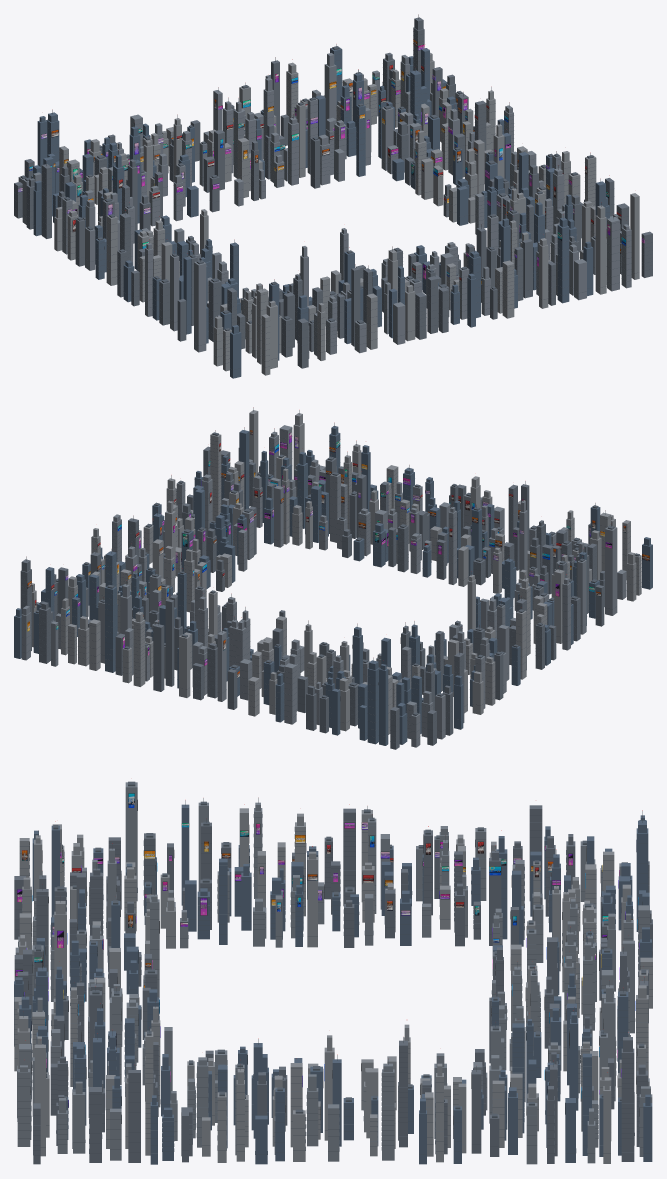
The model's file is HEX_City_06_SKYLINE_BACKGROUND.fbx.
3 views of the same model, one above another, from view 1: azimuth 30°, elevation 25°; view 2: azimuth 150°, elevation 25°; view 3: azimuth 270°, elevation 25° (orthographic). The views are drawn at different scales.
Parts seen in each view (by area): view 1: Skyline_Sector_06, Skyline_Sector_11, Skyline_Sector_03, Skyline_Sector_10, Skyline_Sector_14, Skyline_Sector_15, Skyline_Sector_07, Skyline_Sector_02, Skyline_Sector_04, Skyline_Sector_12, Skyline_Sector_05, Skyline_Sector_13 (+4 smaller); view 2: Skyline_Sector_11, Skyline_Sector_06, Skyline_Sector_14, Skyline_Sector_07, Skyline_Sector_15, Skyline_Sector_12, Skyline_Sector_03, Skyline_Sector_10, Skyline_Sector_13, Skyline_Sector_02, Skyline_Sector_04, Skyline_Sector_01 (+4 smaller); view 3: Skyline_Sector_10, Skyline_Sector_07, Skyline_Sector_11, Skyline_Sector_15, Skyline_Sector_06, Skyline_Sector_08, Skyline_Sector_09, Skyline_Sector_02, Skyline_Sector_01, Skyline_Sector_16, Skyline_Sector_14, Skyline_Sector_03 (+4 smaller).
Part boxes in pixels (x1,y1,x2,y2): Skyline_Sector_06: (439, 199, 631, 308); Skyline_Sector_11: (286, 44, 413, 188); Skyline_Sector_03: (252, 246, 360, 375); Skyline_Sector_10: (381, 14, 473, 195); Skyline_Sector_14: (18, 109, 198, 226); Skyline_Sector_15: (14, 150, 171, 260); Skyline_Sector_07: (496, 152, 652, 279); Skyline_Sector_02: (177, 239, 262, 378); Skyline_Sector_04: (340, 228, 437, 353); Skyline_Sector_12: (213, 57, 305, 199); Skyline_Sector_05: (392, 243, 517, 332); Skyline_Sector_13: (130, 114, 258, 212); Skyline_Sector_11: (14, 568, 226, 686); Skyline_Sector_06: (268, 410, 370, 561); Skyline_Sector_14: (306, 623, 420, 749); Skyline_Sector_07: (187, 407, 289, 559); Skyline_Sector_15: (392, 621, 495, 745); Skyline_Sector_12: (153, 590, 272, 701); Skyline_Sector_03: (458, 481, 630, 598); Skyline_Sector_10: (20, 543, 194, 650); Skyline_Sector_13: (227, 610, 329, 724); Skyline_Sector_02: (504, 523, 652, 626); Skyline_Sector_04: (410, 476, 536, 584); Skyline_Sector_01: (467, 556, 586, 665); Skyline_Sector_10: (403, 1022, 634, 1164); Skyline_Sector_07: (33, 1001, 227, 1164); Skyline_Sector_11: (489, 967, 652, 1161); Skyline_Sector_15: (400, 805, 595, 946); Skyline_Sector_06: (17, 966, 151, 1146); Skyline_Sector_08: (201, 1038, 323, 1164); Skyline_Sector_09: (324, 1035, 447, 1164); Skyline_Sector_02: (32, 781, 227, 948); Skyline_Sector_01: (198, 797, 324, 947); Skyline_Sector_16: (324, 804, 448, 947); Skyline_Sector_14: (492, 810, 652, 982); Skyline_Sector_03: (14, 821, 149, 994).
Bounding box in the file's own units: 2798 × 617 × 2798.
2 materials, 2 textured.
